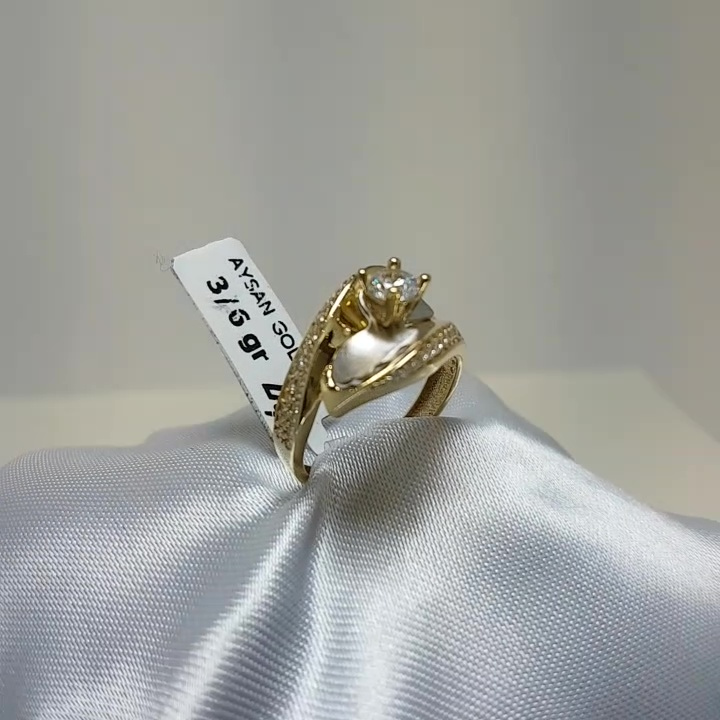Ring 6: (238, 248, 479, 496)
